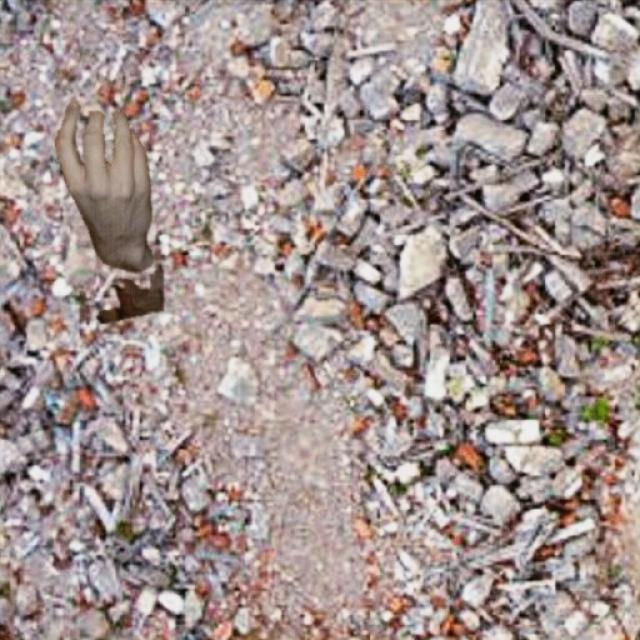Person in Rubble: (54, 99, 162, 322)
